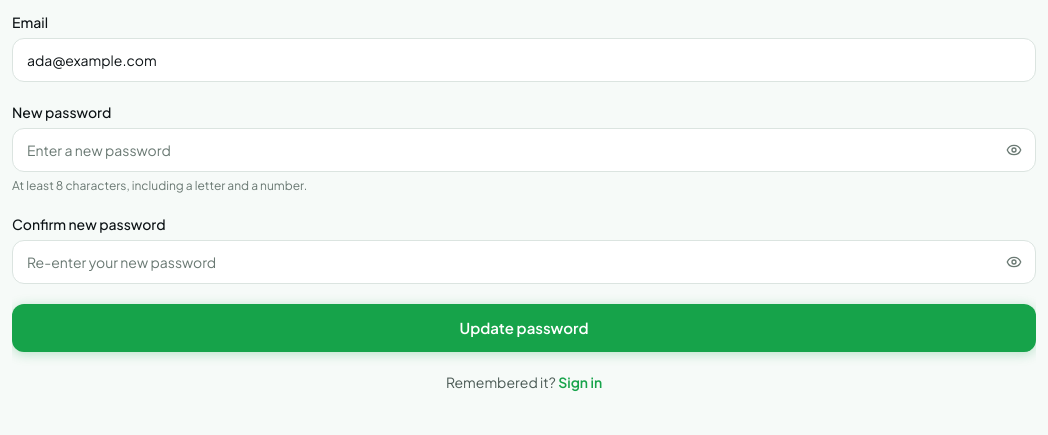
Test: ResetPasswordForm › blocks mismatched passwords
Type "secret123" into the password field labelled "New password" at coordinates (524, 150), box [12,128,1036,172]
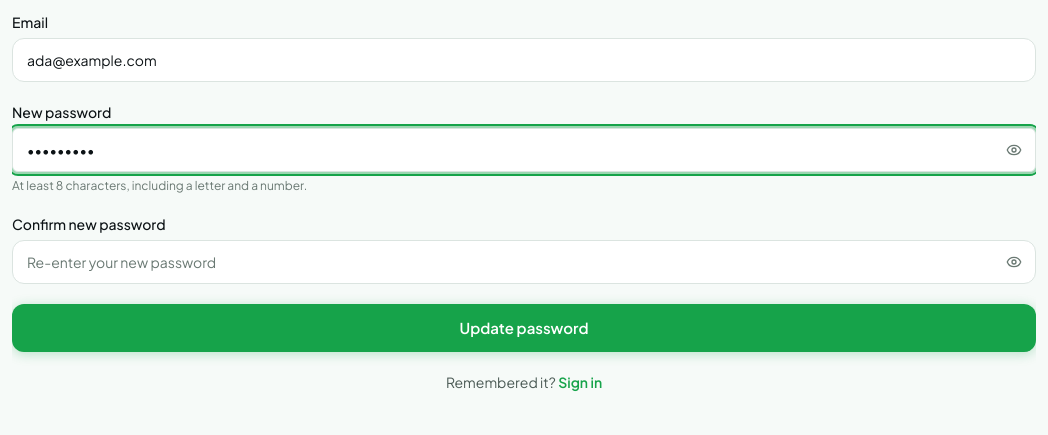
Type "different123" into the password field labelled "Confirm new password" at coordinates (524, 262), box [12,240,1036,284]
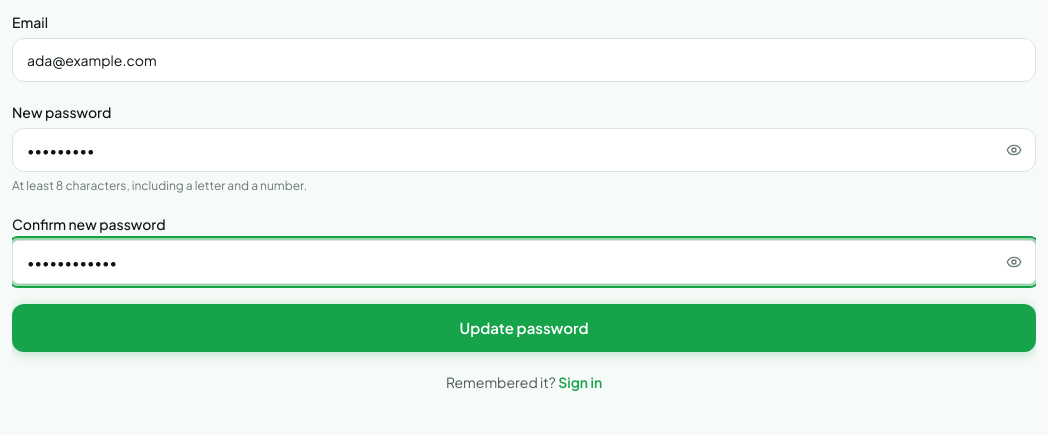
Click the button "Update password" at coordinates (524, 328), box [12,304,1036,352]
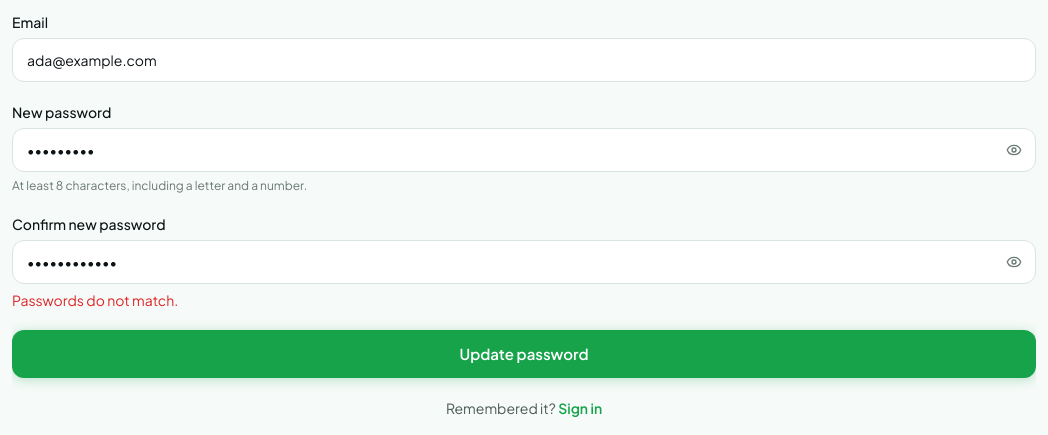
expect the text "Passwords do not match." is shown: met, box [12,291,178,309]
